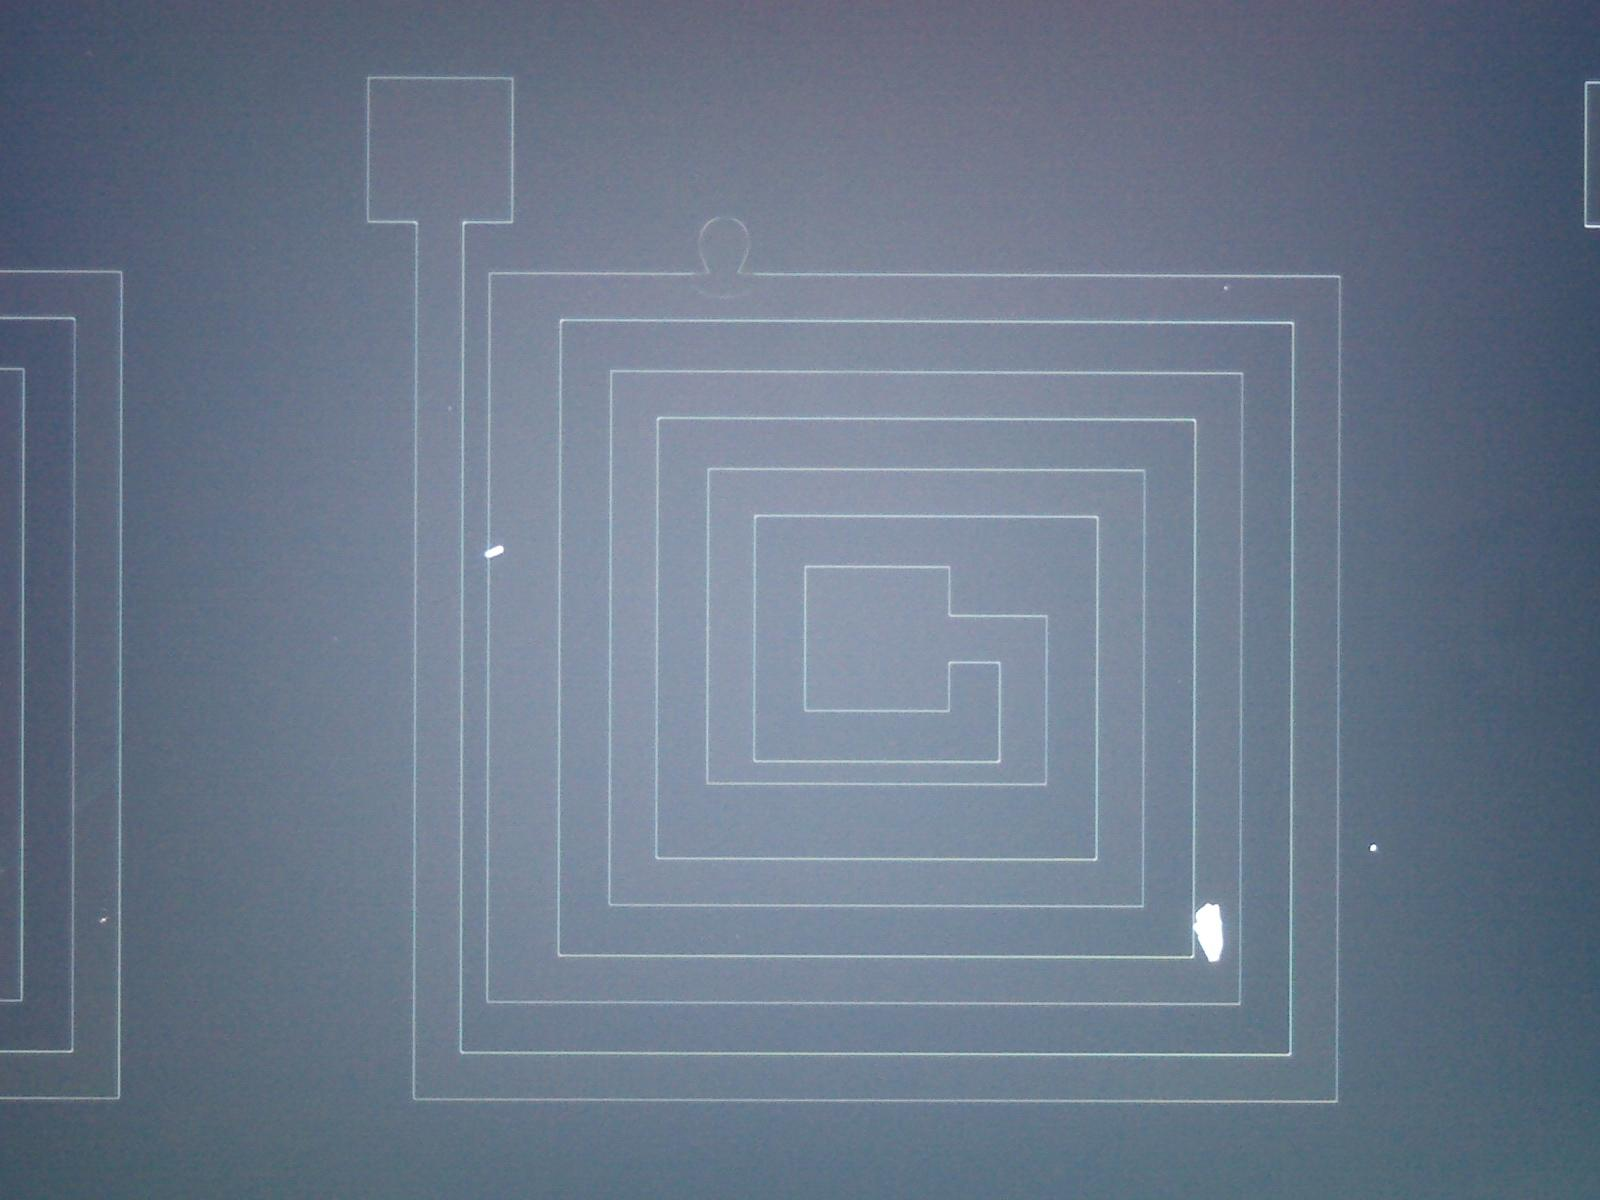B_point: (1186, 895, 1231, 969), (480, 541, 506, 562), (1362, 838, 1383, 857), (96, 911, 113, 930)
project: (683, 211, 771, 301)
s_point: (1216, 280, 1235, 296), (443, 402, 457, 416)
width: (386, 255, 643, 1029), (692, 639, 1063, 933)
